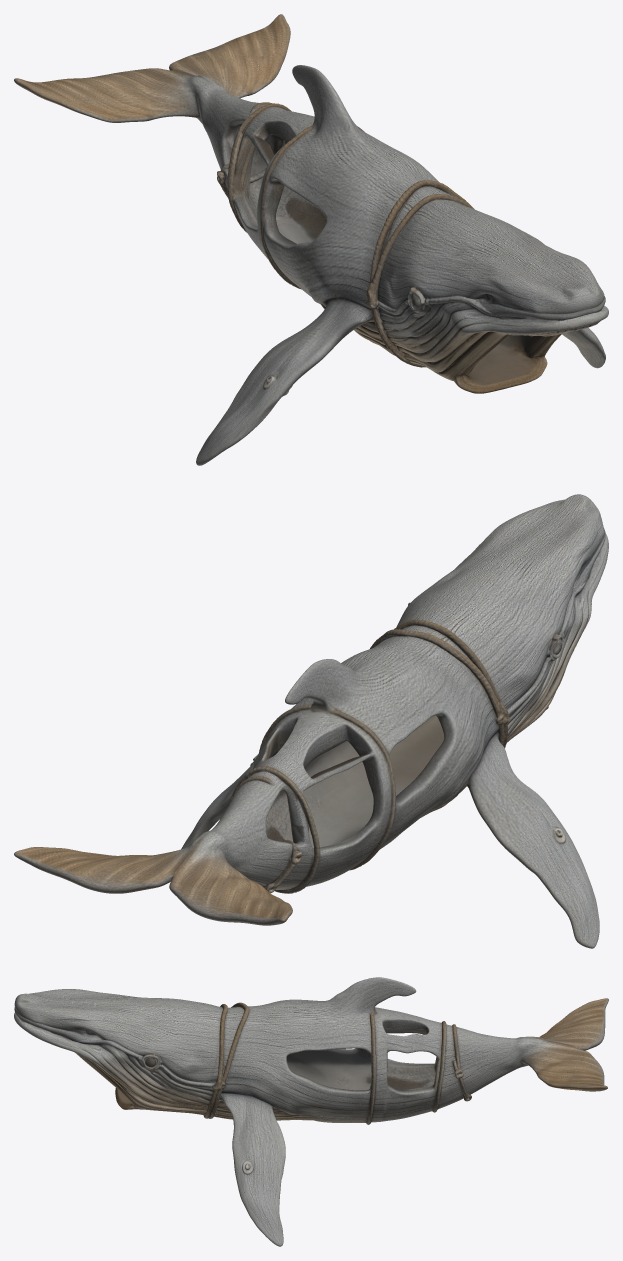
Rendered from driftwood_whale_statue.glb.
The picture shows the model from 3 angles, top to bottom: view 1: azimuth 30°, elevation 25°; view 2: azimuth 150°, elevation 25°; view 3: azimuth 270°, elevation 25°; orthographic projection. The views are drawn at different scales.
Size of the model in its own units: 1.02 by 0.7078 by 1.9.
Materials: 1 (1 with a texture image).
